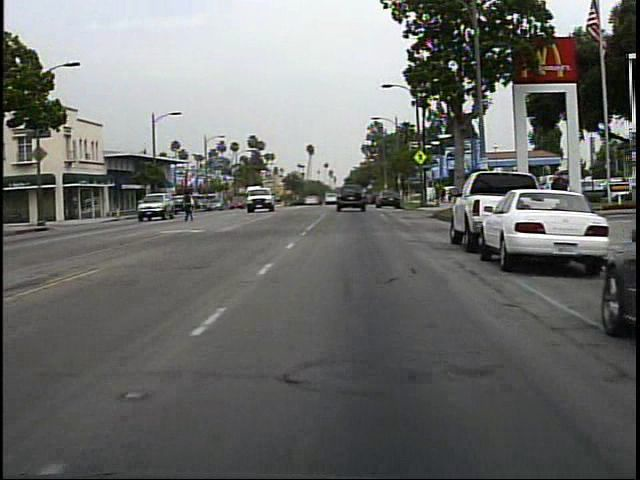person: (545, 168, 572, 226), (180, 183, 200, 225)
